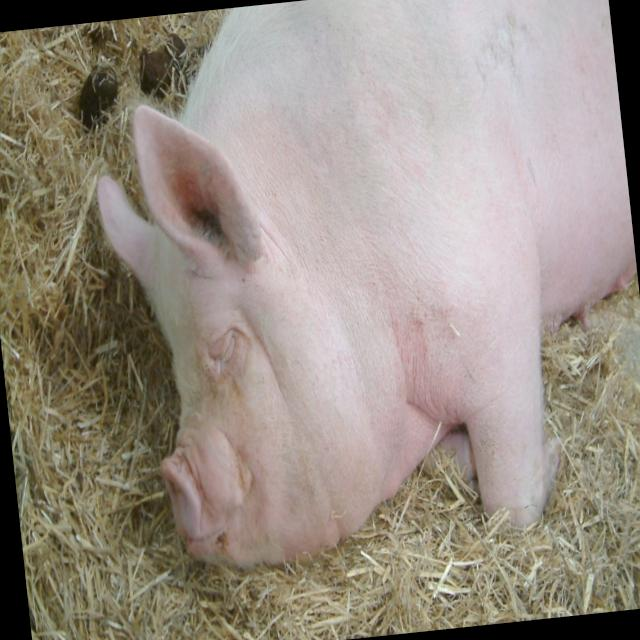pig: (98, 0, 637, 573)
